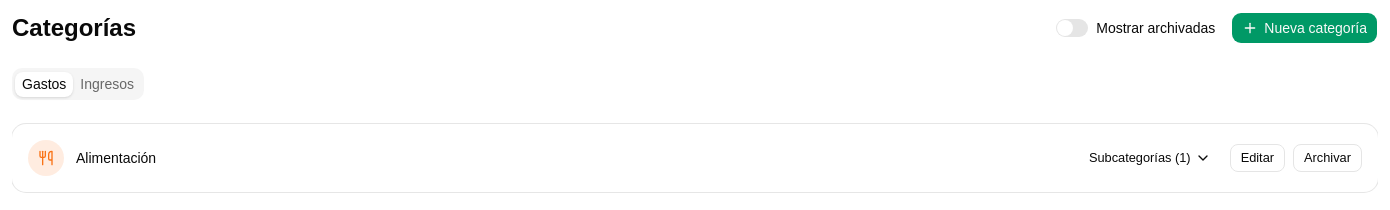
Test case: CategoriesPage › splits expenses and income into tabs
The image size is (1390, 210).
Expected: the text "Alimentación" is shown, 76,148 -> 156,168
Expected: the text "Salario" is not shown
Click the tab "Ingresos" at (107, 84), box 73,72 -> 141,96
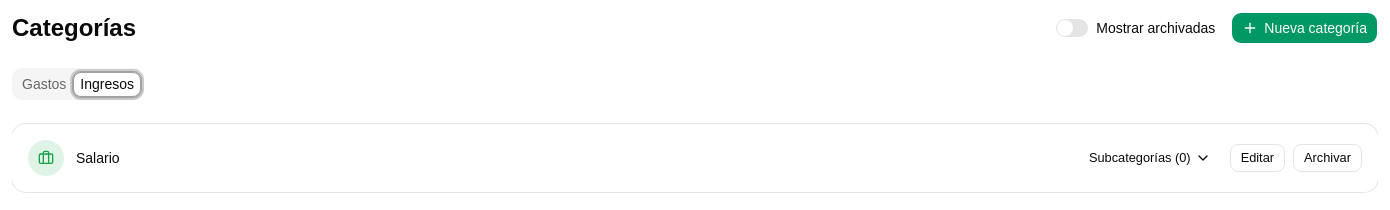
Expected: the text "Salario" is shown, 76,148 -> 120,168
Expected: the text "Alimentación" is gone
